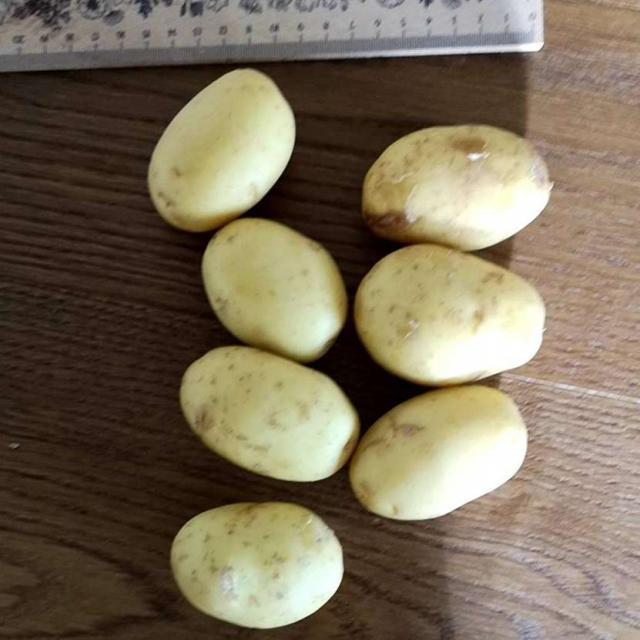potatoes: (145, 52, 548, 624)
